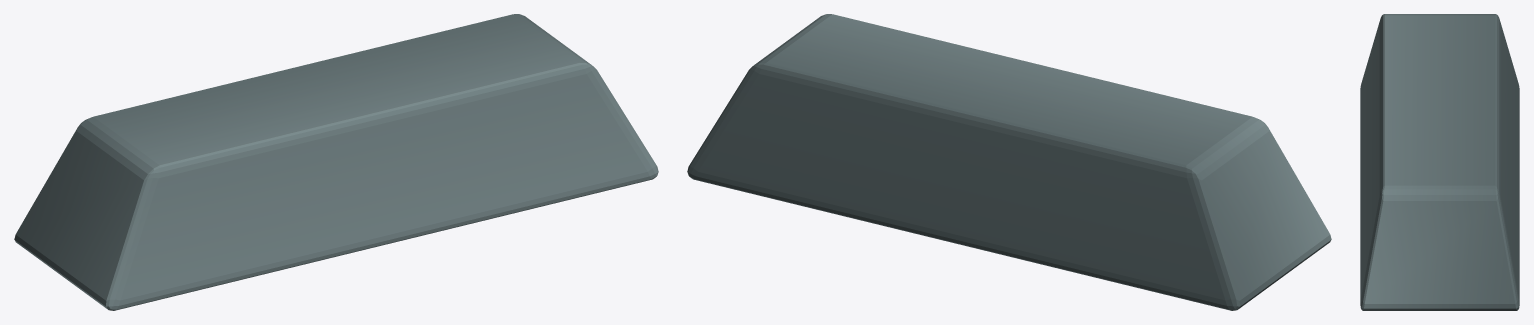
File: IronIngot.fbx
3 renders of one model, left to right at view 1: azimuth 30°, elevation 25°; view 2: azimuth 150°, elevation 25°; view 3: azimuth 270°, elevation 25°, orthographic. The views are drawn at different scales.
Parts seen in each view (by area): view 1: Plane; view 2: Plane; view 3: Plane.
Boxes of the visible parts, x1=… form: Plane: x1=14, y1=14, x2=658, y2=310; Plane: x1=687, y1=14, x2=1331, y2=310; Plane: x1=1360, y1=14, x2=1519, y2=310.
Bounding box in the file's own units: 197 × 41.27 × 59.18.
